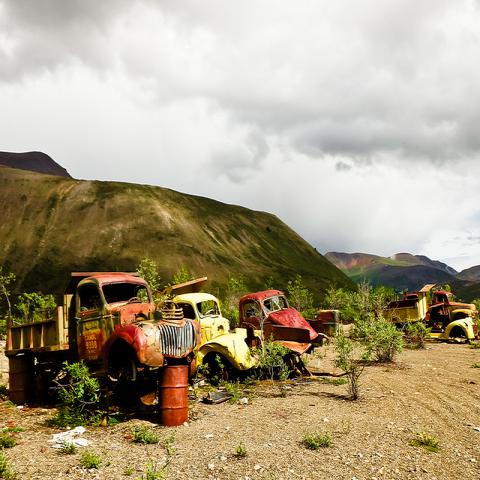car: (238, 290, 318, 341), (172, 292, 231, 346)
truck: (9, 275, 204, 407), (173, 291, 266, 370), (239, 290, 320, 357), (383, 283, 476, 340), (428, 290, 478, 336)
